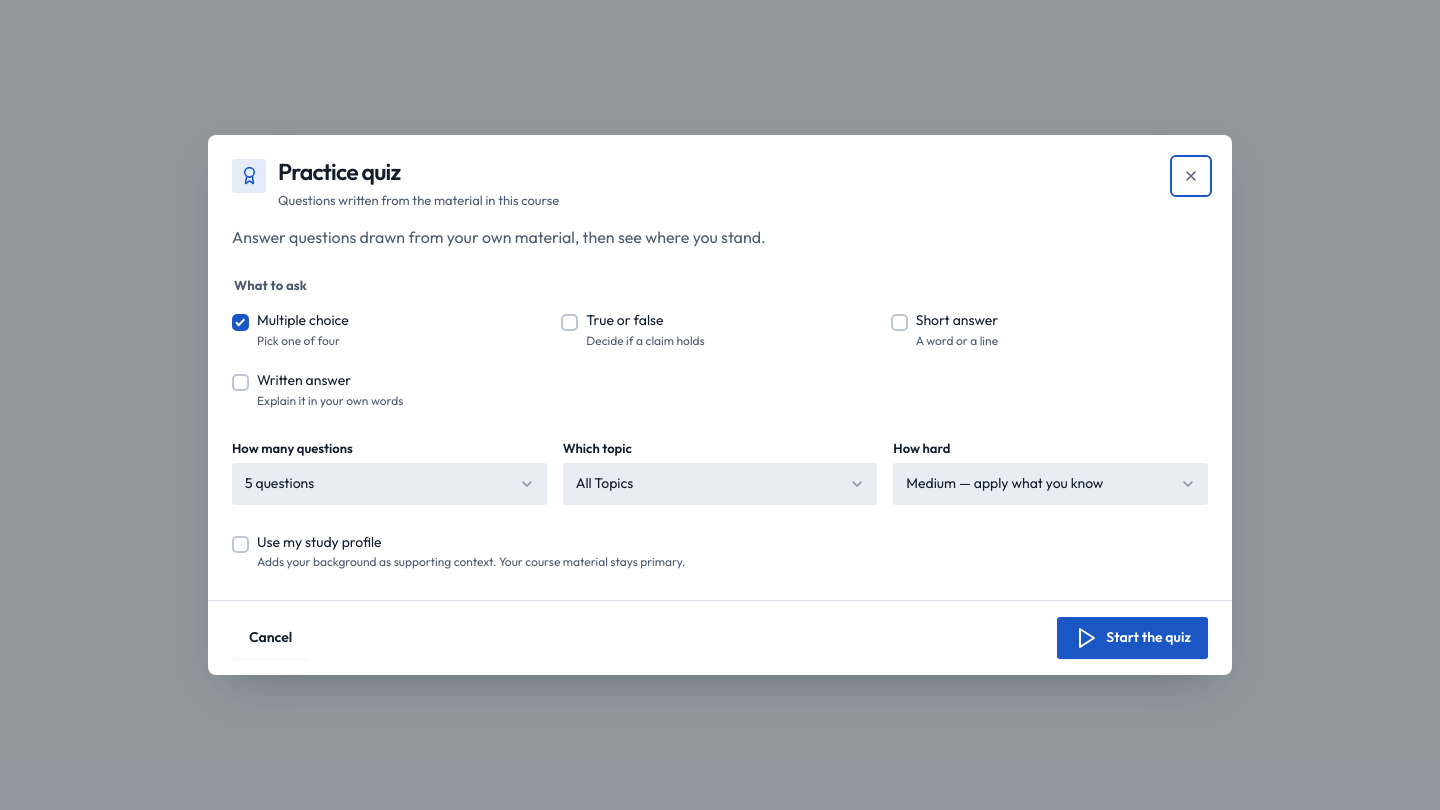
Test: when the quiz cannot be written › tells the student to wait a minute when the model is busy
What coordinates should you click on to do the following:
click the button "Start the quiz"
I would click on:
 (1133, 638)
Its box is [1057, 617, 1208, 659].
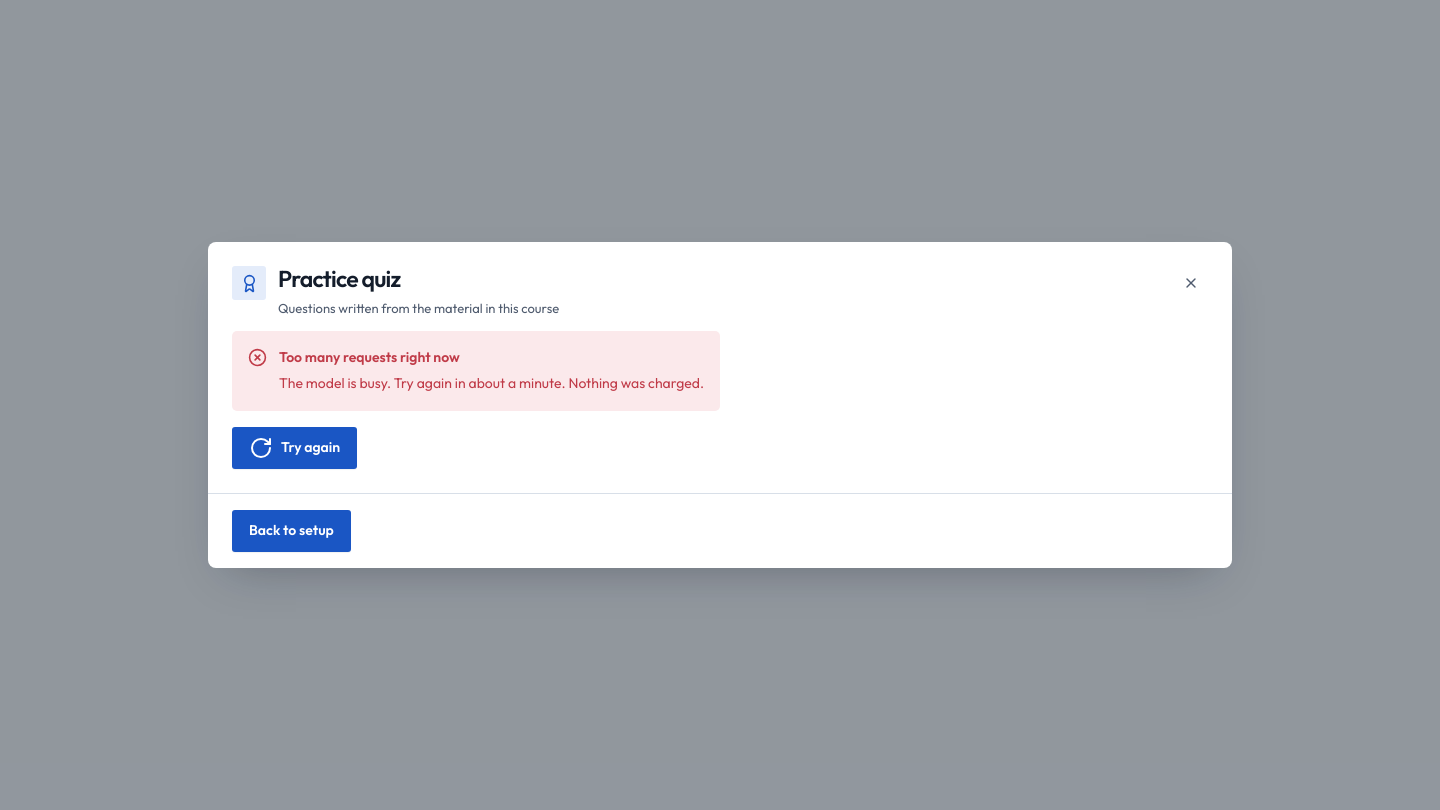
expect the text "Too many requests right now" is shown: met, box [279, 348, 460, 366]
